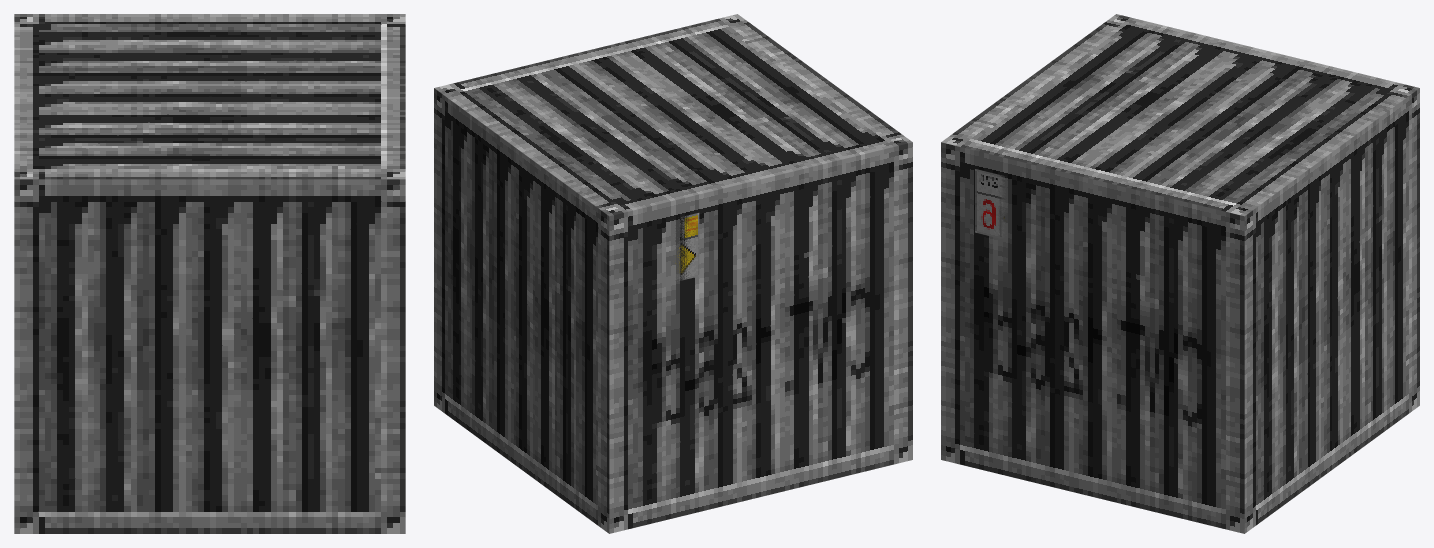
Rendered from primary_030.glb.
The picture shows the model from 3 angles, left to right: view 1: azimuth 30°, elevation 25°; view 2: azimuth 150°, elevation 25°; view 3: azimuth 270°, elevation 25°; orthographic projection. The views are drawn at different scales.
Parts seen in each view (by area): view 1: Object; view 2: Object; view 3: Object.
Part boxes in pixels (bbox=[...]): Object: bbox=[14, 14, 405, 533]; Object: bbox=[434, 14, 912, 533]; Object: bbox=[941, 14, 1419, 533].
Bounding box in the file's own units: 1.8 × 1.32 × 1.8.
3 materials, 3 textured.
